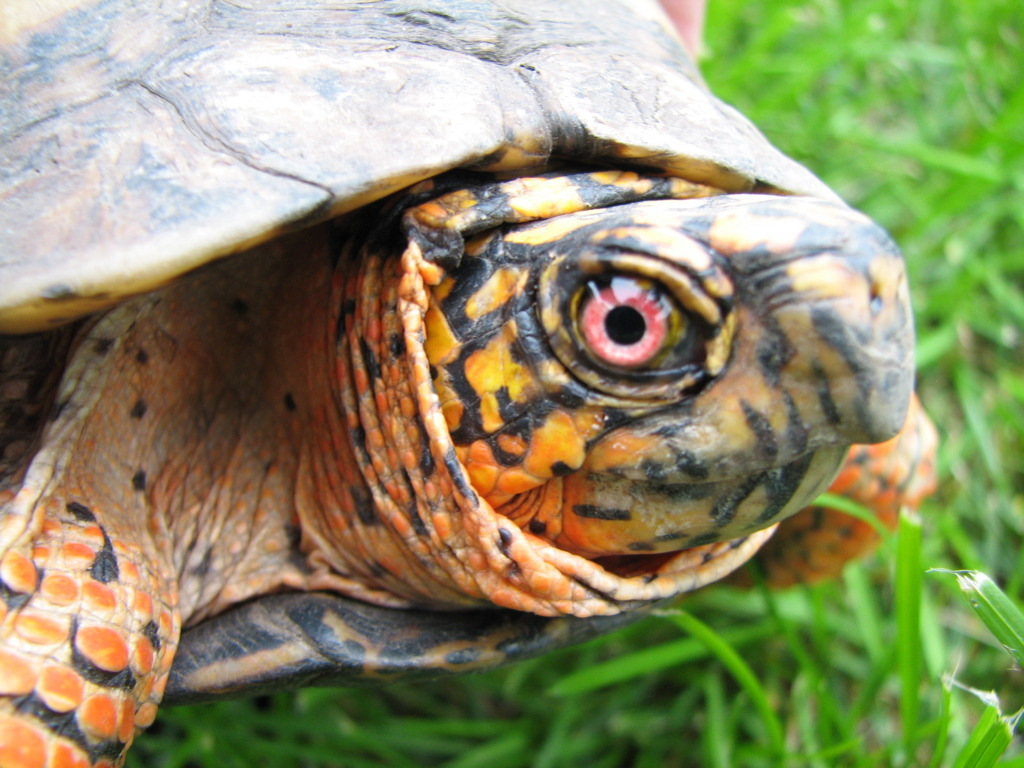Sea turtles: (0, 0, 945, 767)
